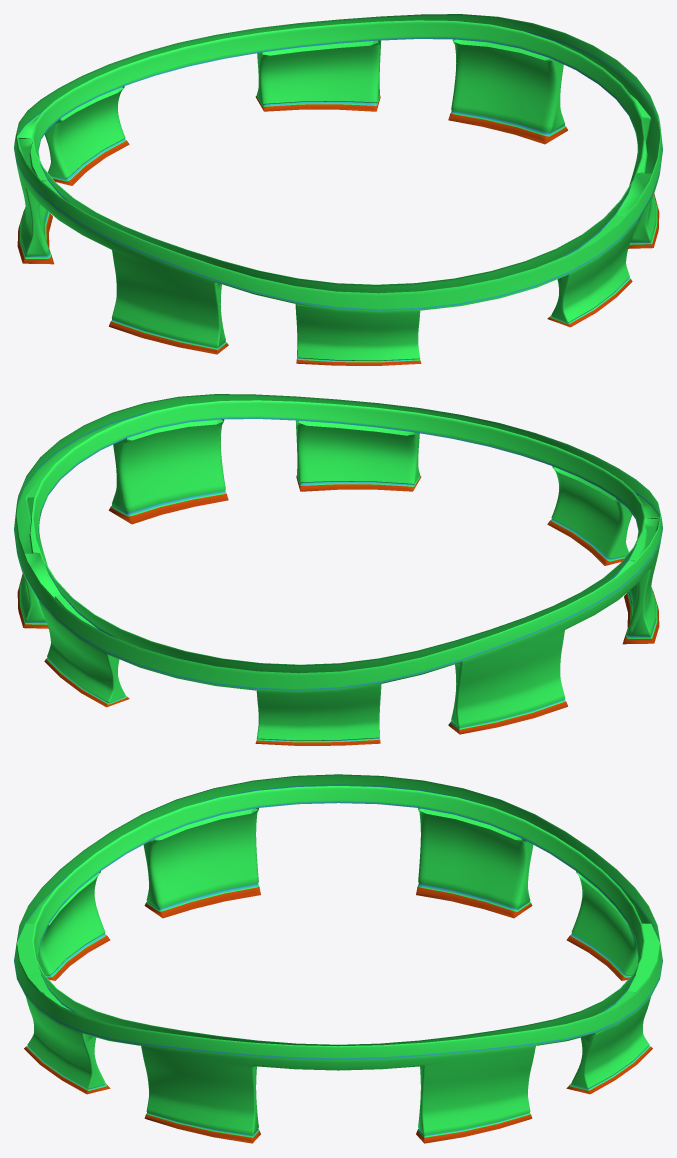
The model's file is Main LL nner Walls.FBX.
3 views of the same model, one above another, from view 1: azimuth 30°, elevation 25°; view 2: azimuth 150°, elevation 25°; view 3: azimuth 270°, elevation 25° (orthographic).
Parts seen in each view (by area): view 1: Lower Level Inner Walls V; view 2: Lower Level Inner Walls V; view 3: Lower Level Inner Walls V.
Boxes of the visible parts, left/top/right/bottom form: Lower Level Inner Walls V: left=14, top=14, right=662, bottom=365; Lower Level Inner Walls V: left=14, top=394, right=662, bottom=745; Lower Level Inner Walls V: left=14, top=774, right=662, bottom=1143.
Bounding box in the file's own units: 76.1 × 13.53 × 76.09.
